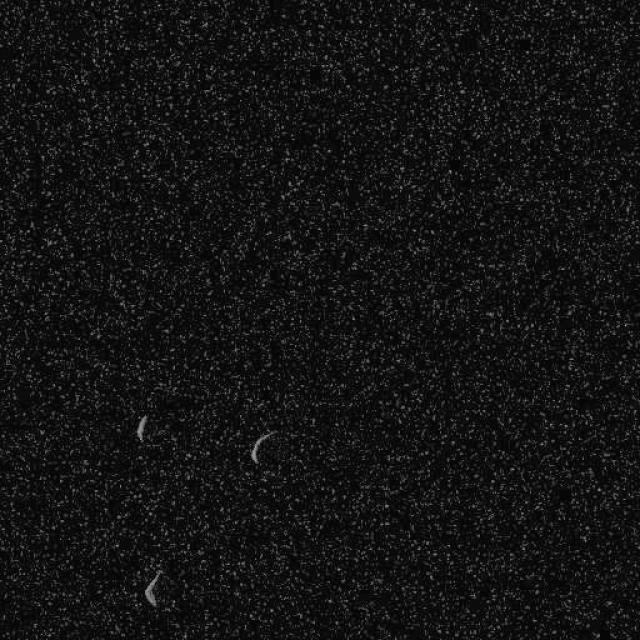D2: (248, 429, 278, 465), (142, 568, 164, 608), (134, 414, 148, 441)
